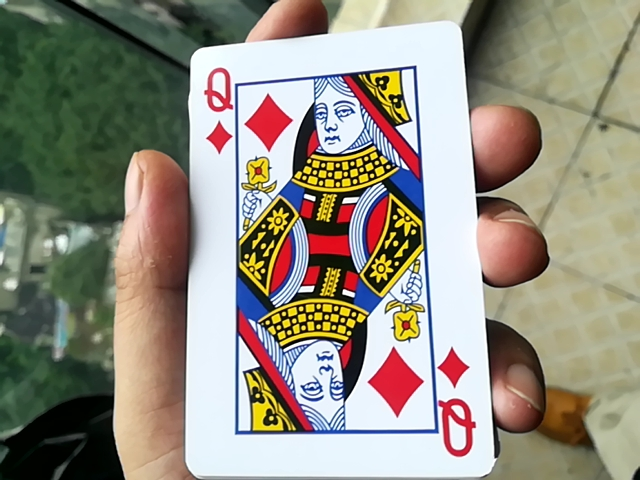fk q: (157, 22, 496, 480)
